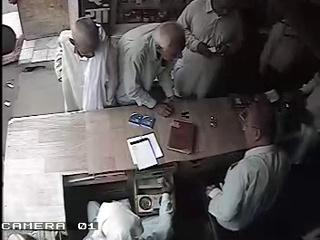Normal: (205, 96, 298, 240), (172, 0, 245, 100), (115, 21, 186, 117), (54, 12, 119, 112)
